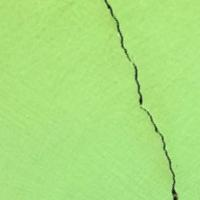crack: (98, 0, 181, 199)
